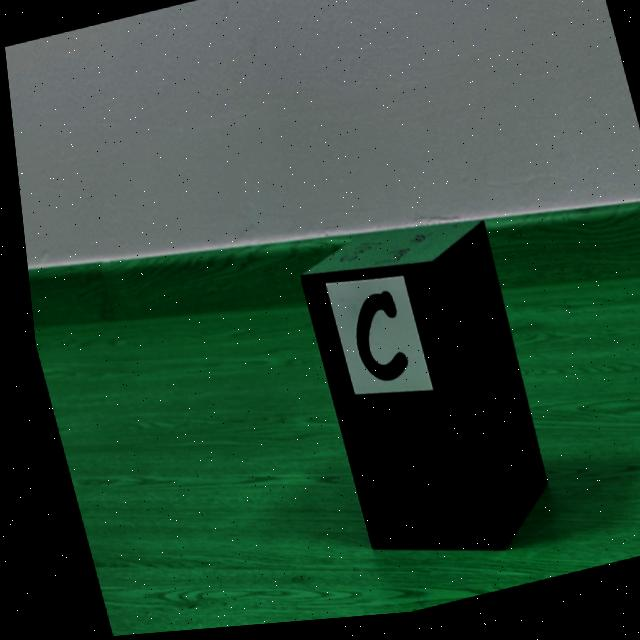C: (348, 297, 399, 387)
